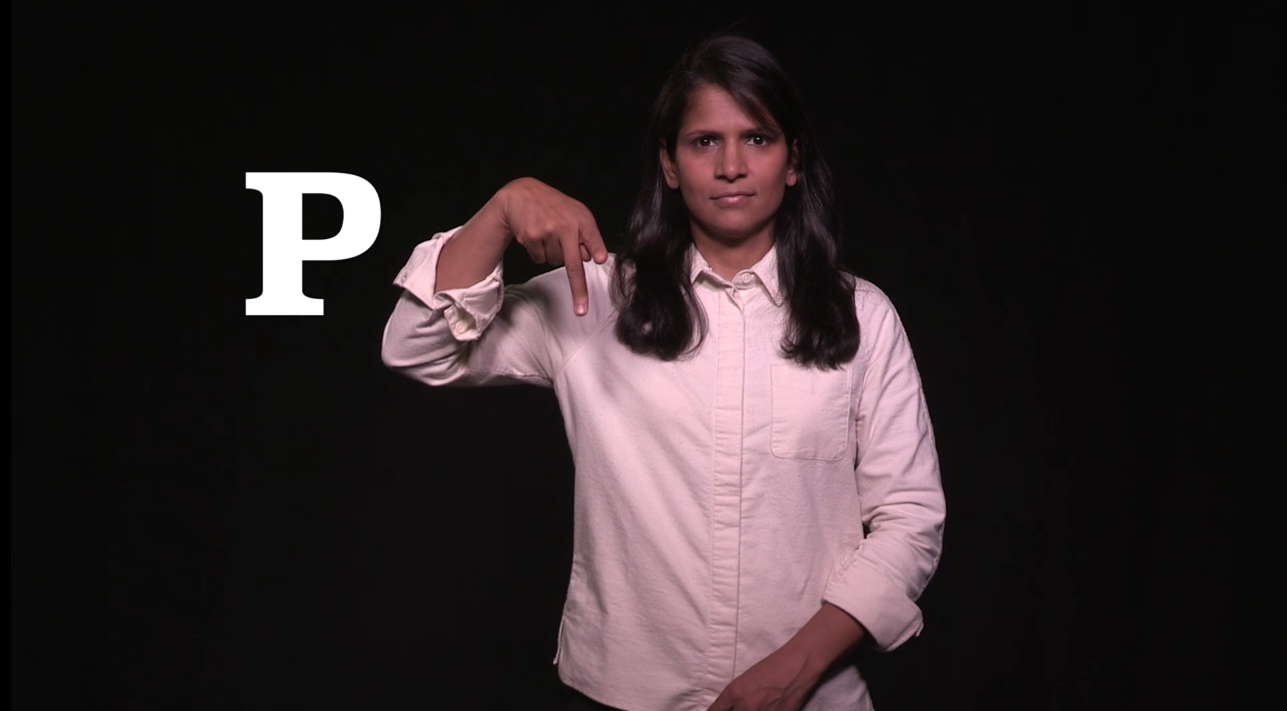p: (479, 162, 638, 334)
